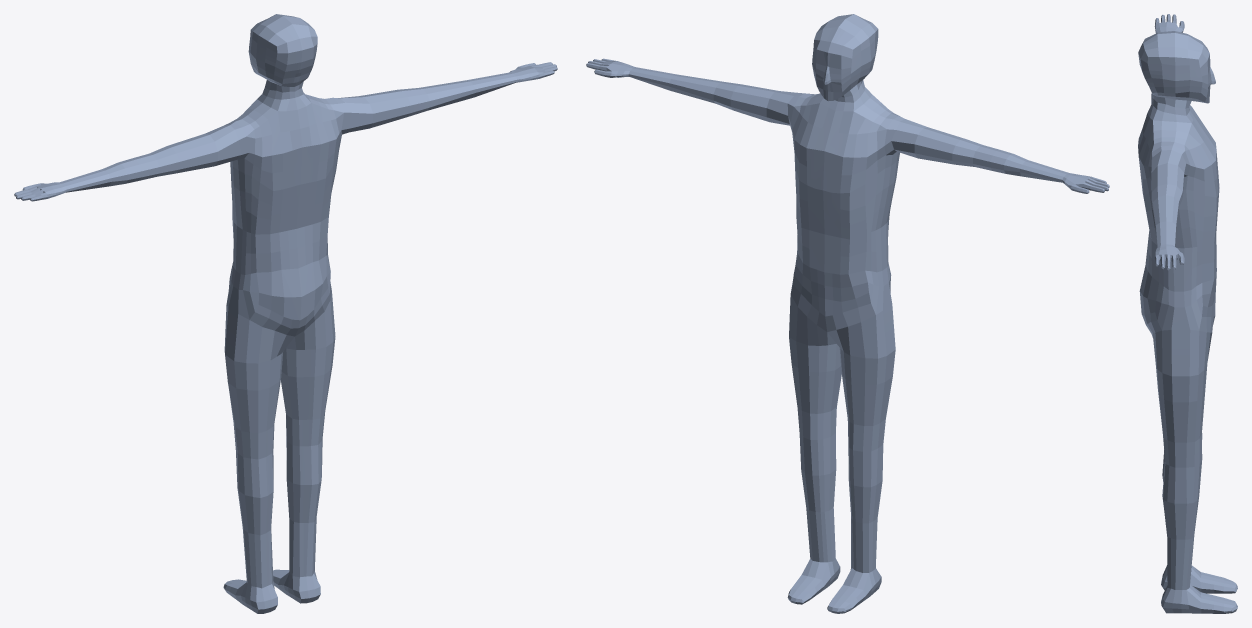
File: bones-human.glb
The picture shows the model from 3 angles, left to right: view 1: azimuth 30°, elevation 25°; view 2: azimuth 150°, elevation 25°; view 3: azimuth 270°, elevation 25°; orthographic projection. The views are drawn at different scales.
Visible parts, largest first — view 1: Body_static; view 2: Body_static; view 3: Body_static.
Part boxes in pixels (x1,y1,x2,y2): Body_static: (14,14,557,613); Body_static: (586,14,1109,613); Body_static: (1138,14,1237,613).
Size of the model in its own units: 2.3 by 2.4 by 0.3834.
